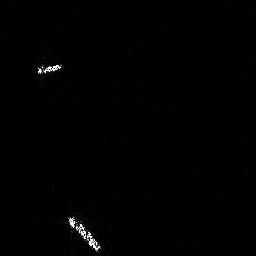ship: (63, 211, 105, 254), (33, 61, 66, 77)
